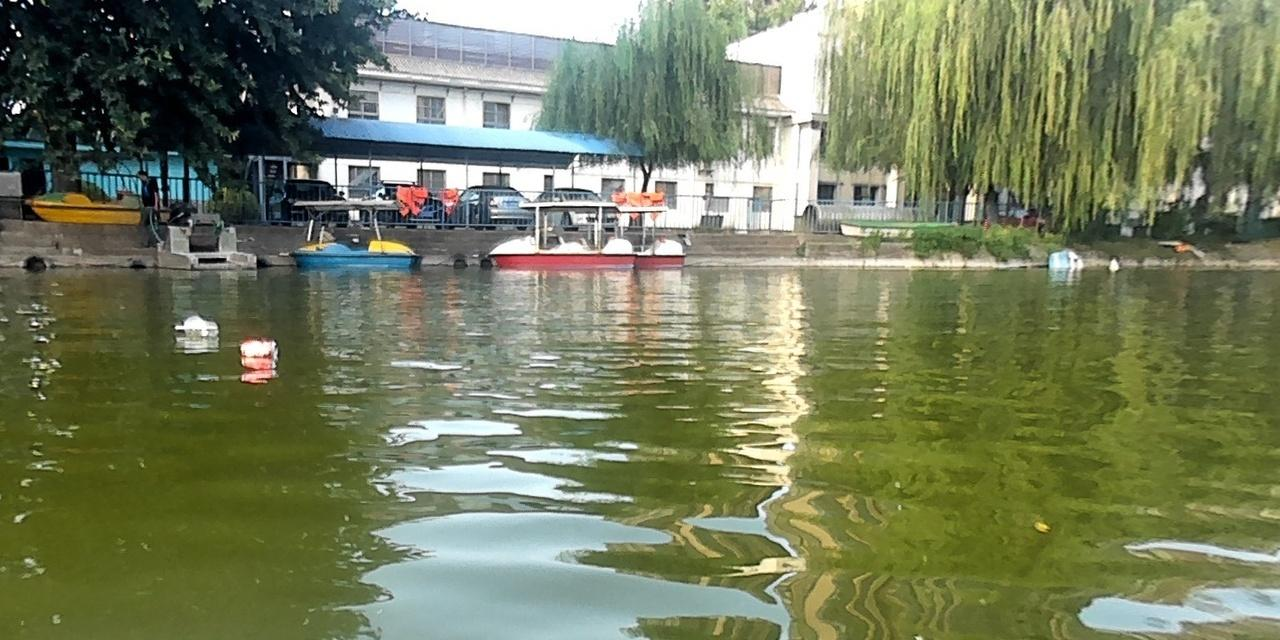bottle: (173, 315, 219, 337), (237, 338, 276, 360)
